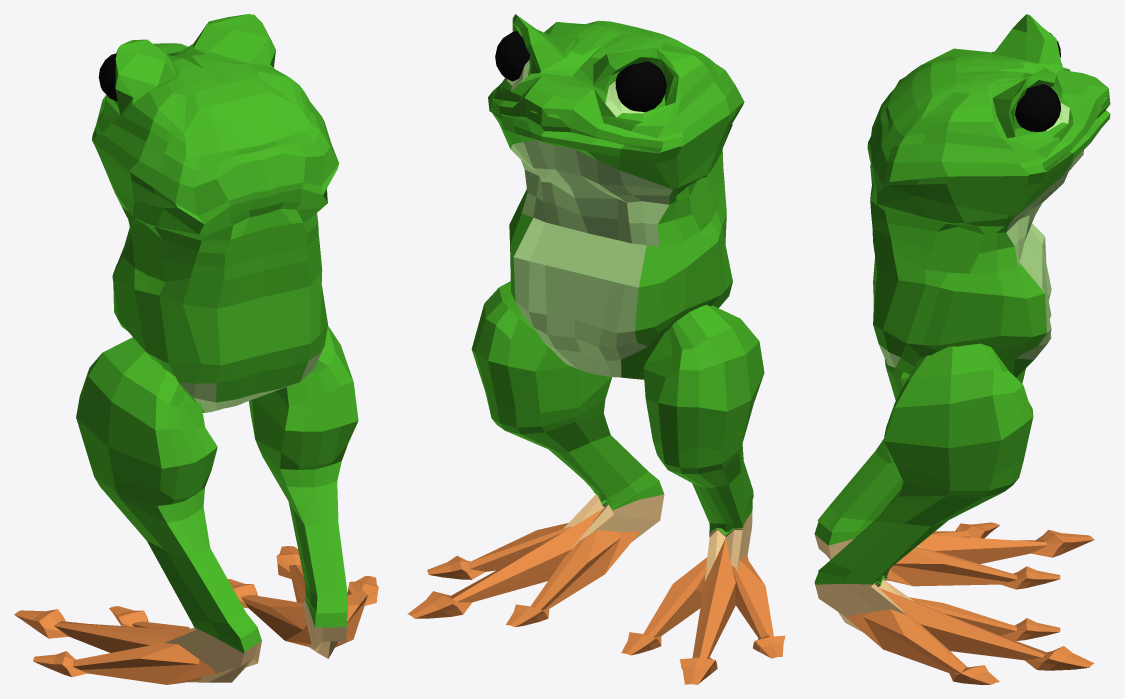
Rendered from frog_all.glb.
3 views of the same model, side by side, from view 1: azimuth 30°, elevation 25°; view 2: azimuth 150°, elevation 25°; view 3: azimuth 270°, elevation 25° (orthographic). The views are drawn at different scales.
Visible parts, largest first — view 1: right foot lets stomp.001; view 2: right foot lets stomp.001; view 3: right foot lets stomp.001.
Part boxes in pixels (bbox=[...]): right foot lets stomp.001: bbox=[14, 14, 378, 684]; right foot lets stomp.001: bbox=[407, 14, 785, 684]; right foot lets stomp.001: bbox=[814, 14, 1110, 684].
Size of the model in its own units: 5.64 by 9.13 by 4.34.
